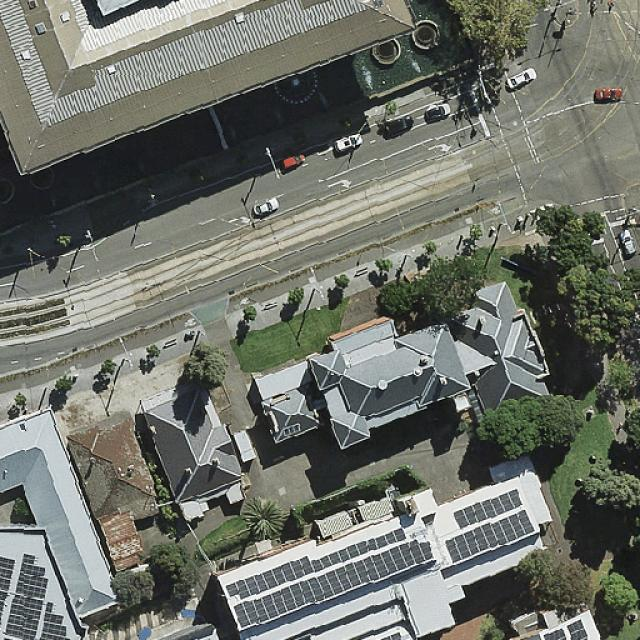Bike-Symbols: (185, 318, 196, 328), (491, 205, 501, 215), (241, 297, 250, 305)
